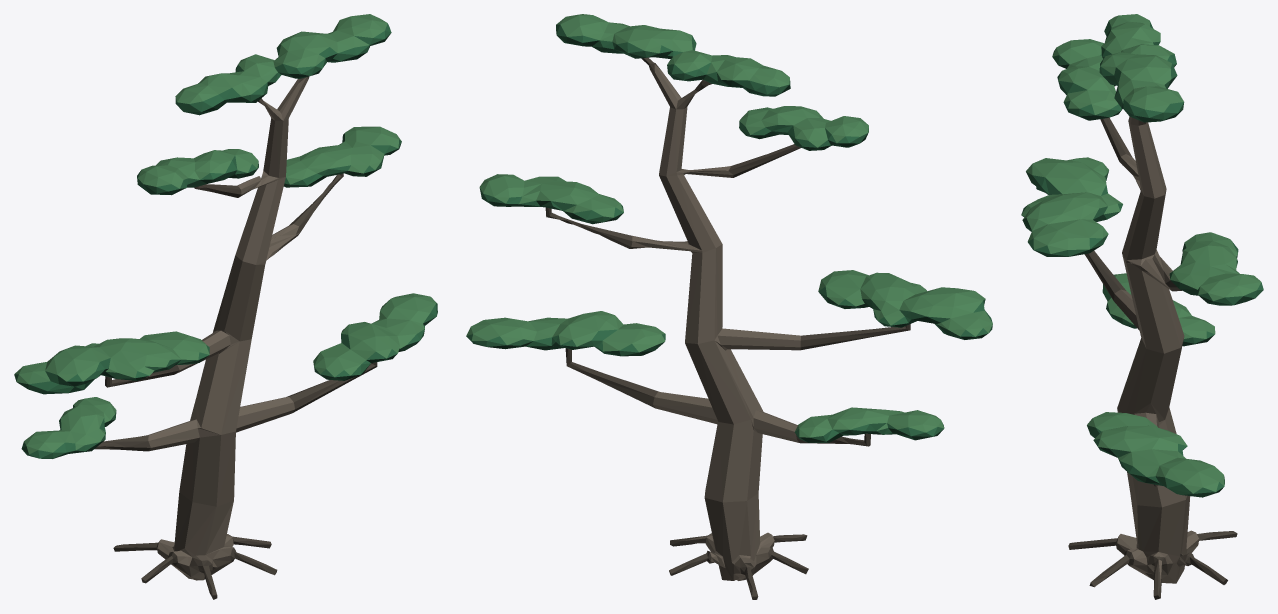
Rendered from ancient-pine-4110-lod1.glb.
The picture shows the model from 3 angles, left to right: view 1: azimuth 30°, elevation 25°; view 2: azimuth 150°, elevation 25°; view 3: azimuth 270°, elevation 25°; orthographic projection. The views are drawn at different scales.
Parts seen in each view (by area): view 1: n12.005, n8.005, n11.005, n9.005, n10.005; view 2: n12.005, n8.005, n11.005, n9.005, n10.005; view 3: n12.005, n8.005, n11.005, n9.005, n10.005.
Part boxes in pixels (x1=…): n12.005: x1=14, y1=14, x2=436, y2=454; n8.005: x1=148, y1=77, x2=308, y2=580; n11.005: x1=14, y1=23, x2=437, y2=458; n9.005: x1=94, y1=76, x2=377, y2=599; n10.005: x1=22, y1=33, x2=435, y2=458; n12.005: x1=466, y1=14, x2=992, y2=437; n8.005: x1=631, y1=64, x2=800, y2=580; n11.005: x1=466, y1=24, x2=992, y2=441; n9.005: x1=545, y1=57, x2=910, y2=599; n10.005: x1=467, y1=36, x2=987, y2=442; n12.005: x1=1021, y1=14, x2=1261, y2=493; n8.005: x1=1109, y1=116, x2=1198, y2=583; n11.005: x1=1021, y1=21, x2=1263, y2=494; n9.005: x1=1068, y1=117, x2=1237, y2=599; n10.005: x1=1022, y1=33, x2=1263, y2=497.
Bounding box in the file's own units: 5.12 × 5.42 × 2.08.
